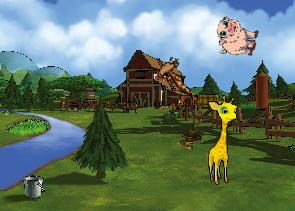eagle: (145, 52, 198, 96)
giraffe: (207, 95, 239, 185)
pig: (212, 14, 261, 60)
